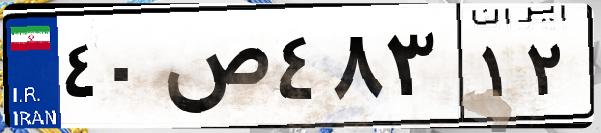0: (110, 28, 158, 98)
1: (475, 38, 525, 113)
2: (525, 38, 570, 115)
3: (385, 28, 445, 110)
4: (270, 28, 330, 110), (57, 26, 110, 100)
8: (330, 28, 385, 110)
ص: (158, 20, 270, 120)
